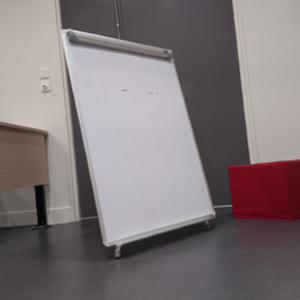big: (61, 27, 217, 252)
medium: (229, 162, 300, 223)
